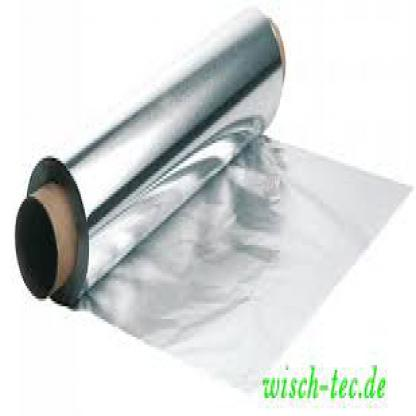METAL: (26, 7, 412, 354)
